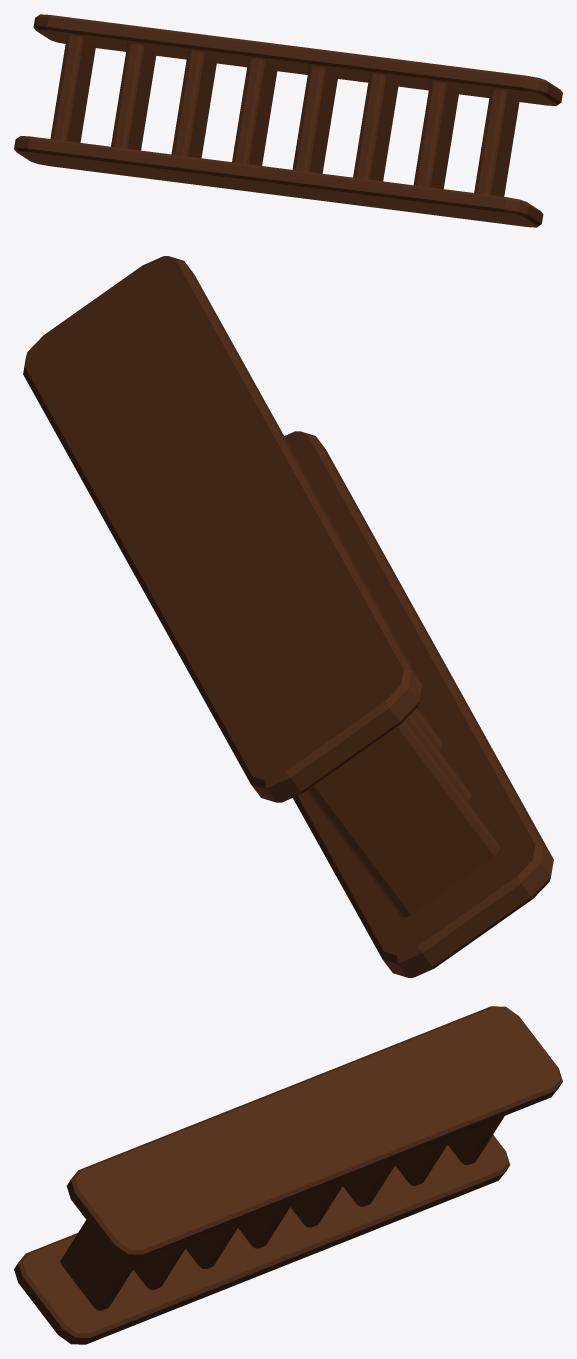
File: ladder2.glb
3 renders of one model, top to bottom at view 1: azimuth 30°, elevation 25°; view 2: azimuth 150°, elevation 25°; view 3: azimuth 270°, elevation 25°, orthographic. The views are drawn at different scales.
Parts seen in each view (by area): view 1: Cube.014, Cube.013, Cube.015; view 2: Cube.015, Cube.013, Cube.014; view 3: Cube.015, Cube.013, Cube.014.
Boxes of the visible parts, x1,y1,x2,y2 form: Cube.014: (50, 35, 519, 196); Cube.013: (14, 136, 543, 227); Cube.015: (33, 14, 562, 105); Cube.015: (23, 256, 422, 802); Cube.013: (284, 431, 553, 977); Cube.014: (306, 708, 499, 917); Cube.015: (66, 1006, 562, 1261); Cube.013: (14, 1135, 510, 1344); Cube.014: (60, 1116, 504, 1310).
Size of the model in its own units: 0.3786 by 0.1362 by 0.3922.
